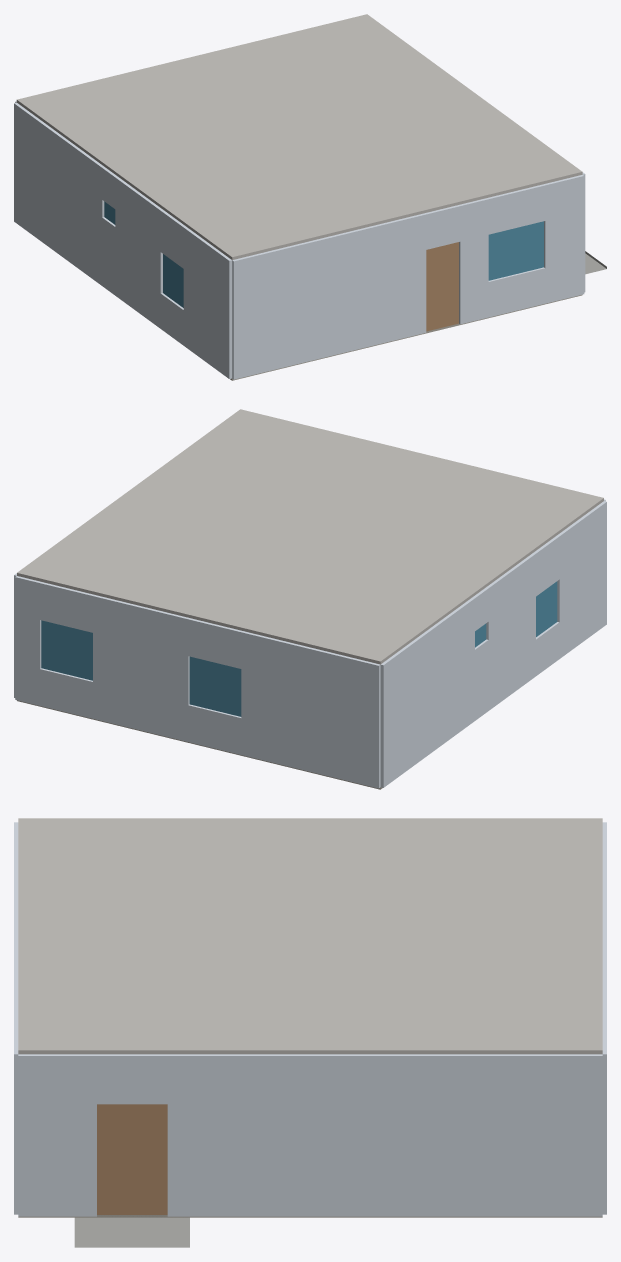
Rendered from 2BHK_06.glb.
The picture shows the model from 3 angles, top to bottom: view 1: azimuth 30°, elevation 25°; view 2: azimuth 150°, elevation 25°; view 3: azimuth 270°, elevation 25°; orthographic projection. The views are drawn at different scales.
Visible parts, largest first — view 1: Roof, Wall_W003, Wall_W001, Wall_W002, Wall_W015, Wall_W007, Door_D_ENTRY, Window_WN01, Window_WN02, Floor; view 2: Roof, Wall_W024, Wall_W023, Wall_W015, Wall_W022, Wall_W002, Wall_W007, Window_WN04, Window_WN03, Window_WN02, Floor; view 3: Roof, Wall_W021, Wall_W005, Wall_W013, Door_D_BAL_01, Balcony_BAL_MAIN, Wall_W003, Wall_W024, Floor.
Boxes of the visible parts, x1,y1,x2,y2 form: Roof: (16, 14, 582, 259); Wall_W003: (373, 175, 584, 345); Wall_W001: (232, 226, 373, 379); Wall_W002: (145, 199, 232, 378); Wall_W015: (14, 102, 93, 277); Wall_W007: (91, 159, 147, 317); Door_D_ENTRY: (426, 242, 458, 331); Window_WN01: (488, 221, 543, 280); Window_WN02: (163, 254, 183, 307); Floor: (230, 294, 582, 380); Roof: (17, 409, 603, 664); Wall_W024: (15, 576, 176, 738); Wall_W023: (175, 615, 299, 768); Wall_W015: (380, 605, 463, 787); Wall_W022: (299, 645, 380, 788); Wall_W002: (517, 501, 606, 687); Wall_W007: (461, 565, 519, 728); Window_WN04: (189, 656, 241, 716); Window_WN03: (41, 620, 92, 680); Window_WN02: (536, 581, 557, 636); Floor: (17, 700, 382, 789); Roof: (18, 818, 602, 1054); Wall_W021: (392, 1054, 602, 1216); Wall_W005: (18, 1054, 246, 1216); Wall_W013: (246, 1054, 392, 1216); Door_D_BAL_01: (97, 1104, 167, 1214); Balcony_BAL_MAIN: (74, 1215, 189, 1247); Wall_W003: (14, 915, 18, 1214); Wall_W024: (602, 952, 606, 1214); Floor: (18, 1215, 602, 1217).
Bounding box in the file's own units: 10.74 × 3.18 × 10.21.
